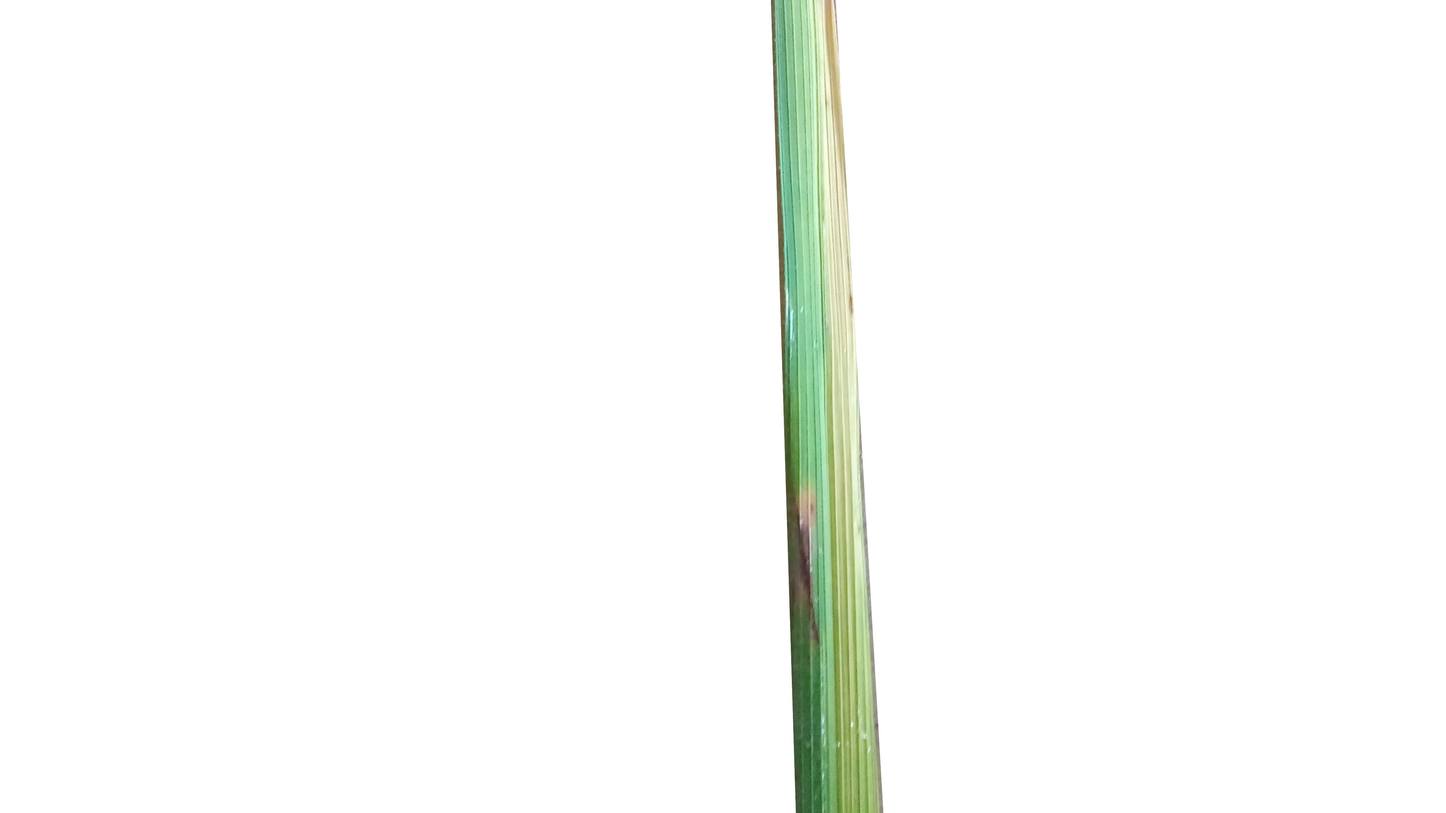Rice blast: (782, 478, 829, 629)
Tungro: (828, 389, 878, 689), (823, 153, 866, 369), (801, 0, 864, 136), (831, 698, 883, 813)
